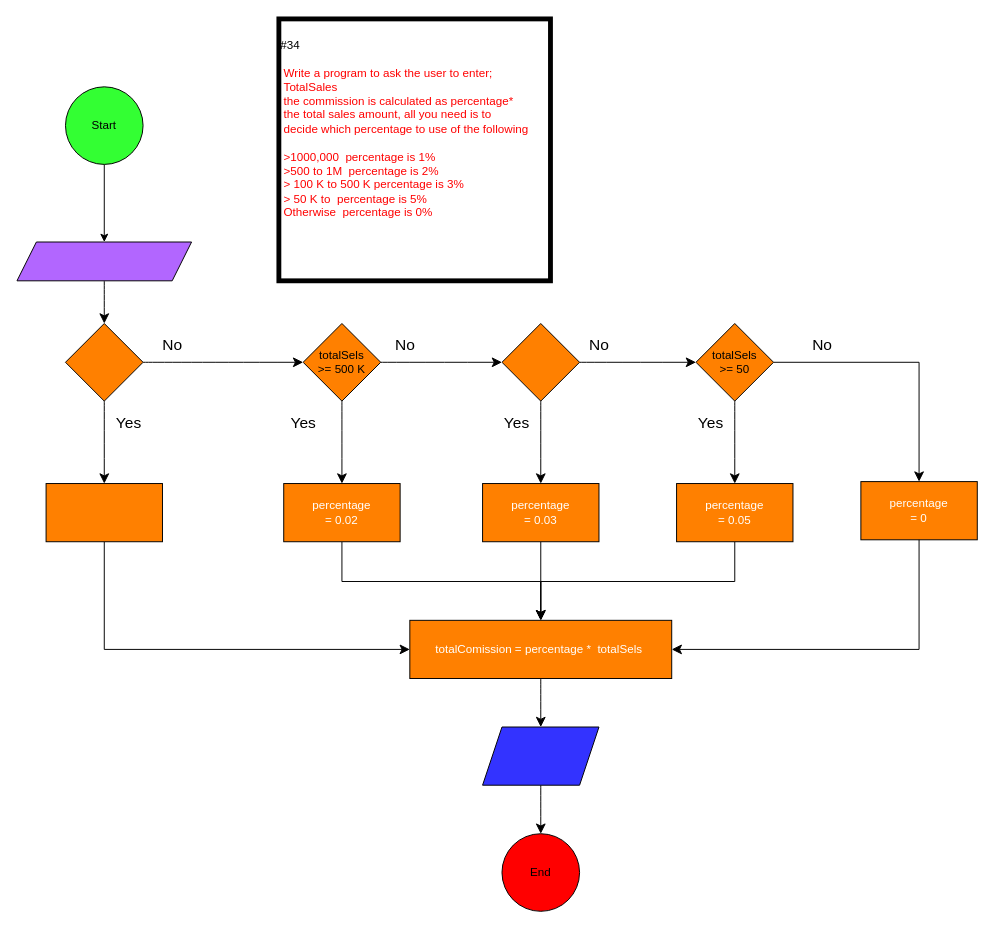
Some shapes in this 994 by 928 pixel diagram are drawn without their labels. The shapes that lost their labels are listed below. From the top down, each one's centre as x and y in pixels, then its label:
point 104,261: Read: totalSels
point 104,362: totalSels >=1M
point 540,362: totalSels >=100
point 103,512: percentage = 0.01
point 540,755: Print totalComission
